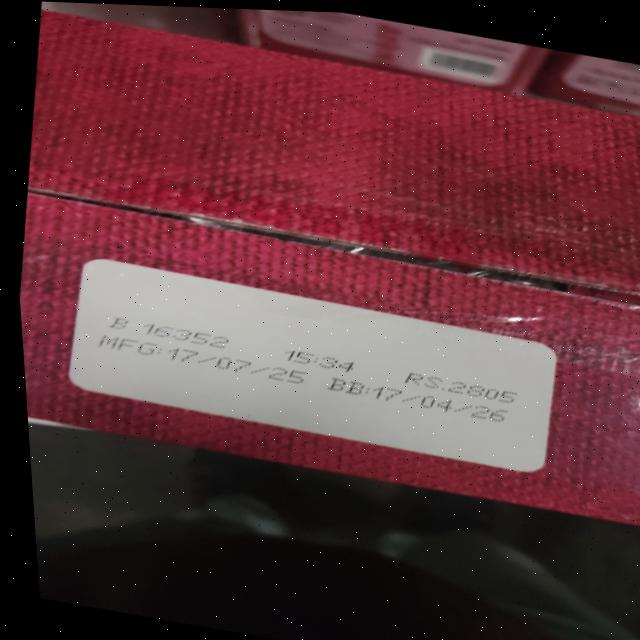BB: (326, 375, 525, 433)
Batch: (101, 310, 250, 356)
MFG: (98, 331, 315, 391)
RS: (402, 365, 531, 412)
TimeStamp: (286, 344, 357, 377)
